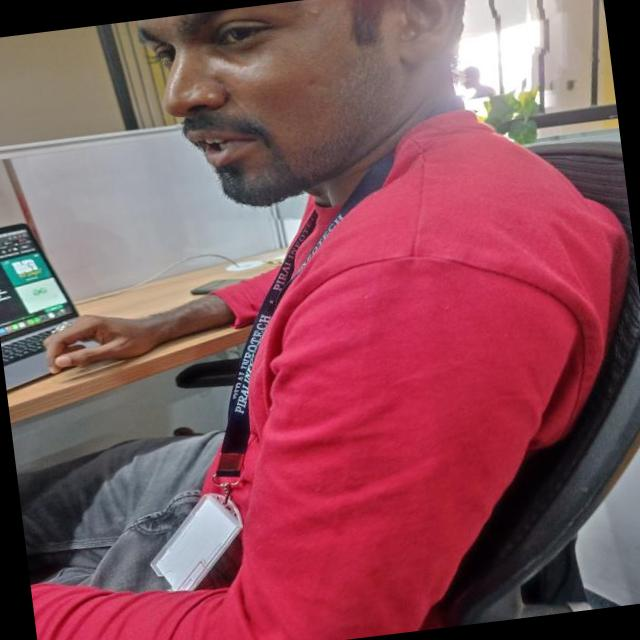id_card: (102, 142, 428, 587)
